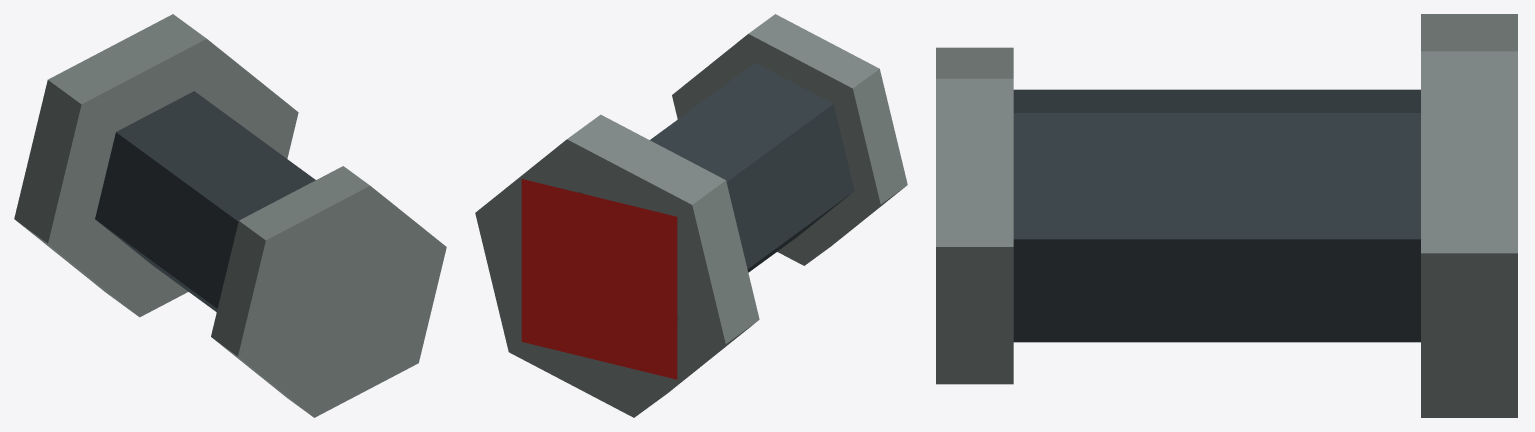
3 views of the same model, side by side, from view 1: azimuth 30°, elevation 25°; view 2: azimuth 150°, elevation 25°; view 3: azimuth 270°, elevation 25° (orthographic). The views are drawn at different scales.
Parts seen in each view (by area): view 1: mount; view 2: mount; view 3: mount.
Part boxes in pixels (x1,y1,x2,y2): mount: (14, 14, 446, 417); mount: (475, 14, 907, 417); mount: (936, 14, 1517, 417).
Bounding box in the file's own units: 4.52 × 4.52 × 6.37.
